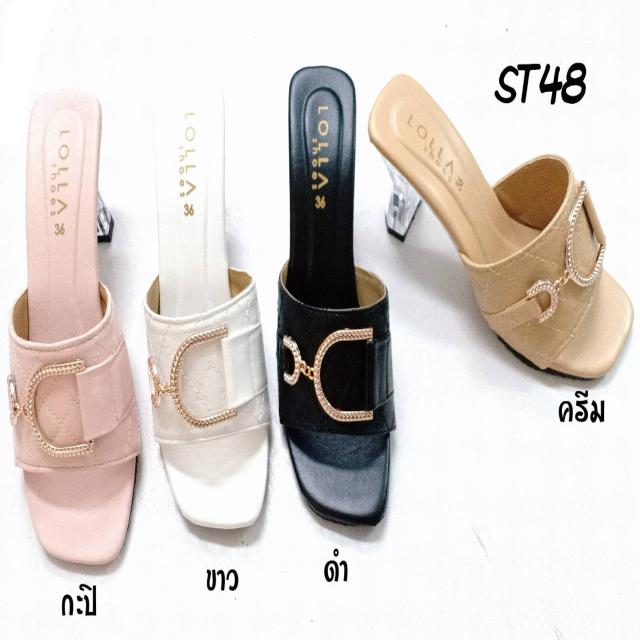black: (278, 66, 392, 515)
cream: (370, 69, 629, 372)
kapi: (17, 86, 134, 561)
white: (150, 74, 270, 525)
